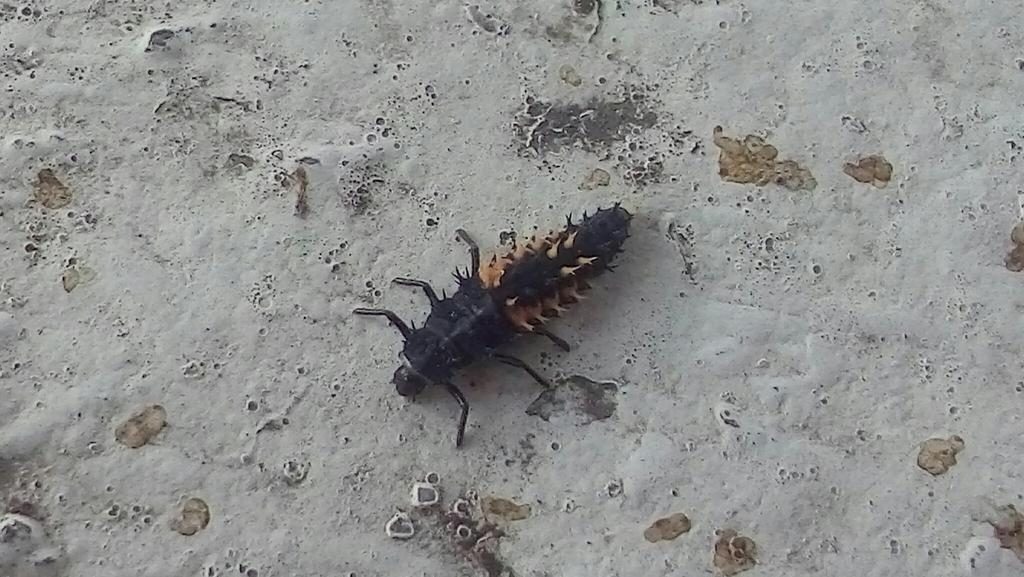ladybug: (349, 198, 641, 453)
